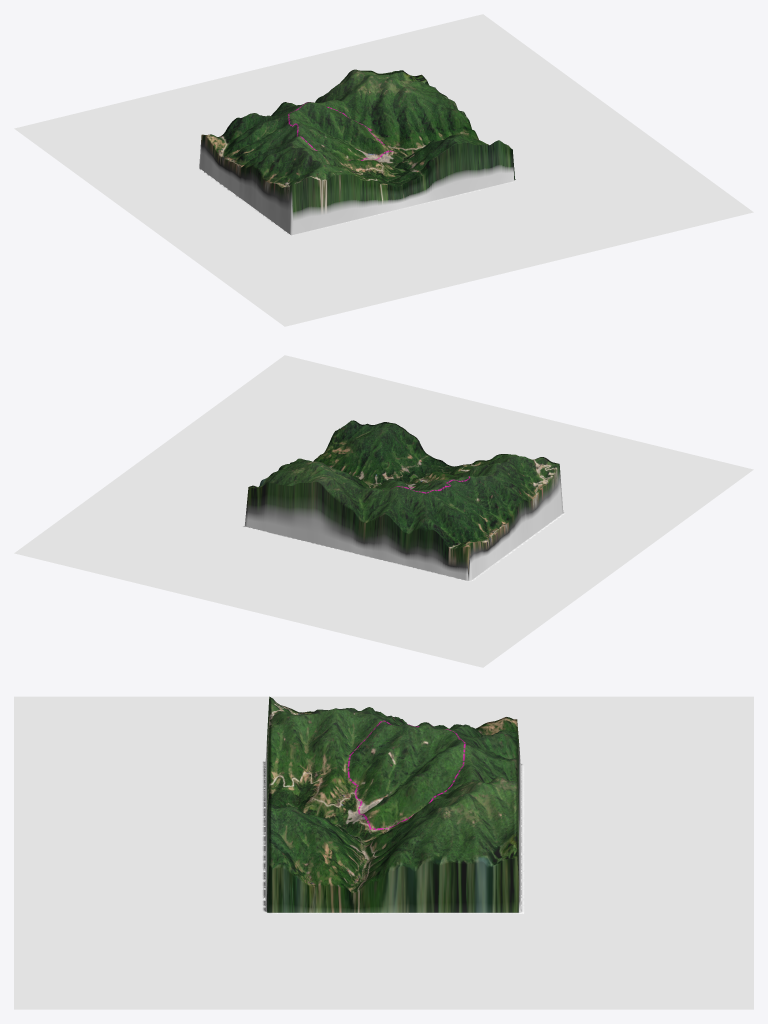
The model's file is low_dem.gltf.
3 renders of one model, top to bottom at view 1: azimuth 30°, elevation 25°; view 2: azimuth 150°, elevation 25°; view 3: azimuth 270°, elevation 25°, orthographic. The views are drawn at different scales.
Parts seen in each view (by area): view 1: 重分类栅格图, Flat Plane; view 2: 重分类栅格图, Flat Plane; view 3: 重分类栅格图, Flat Plane.
Part boxes in pixels (x1,y1,x2,y2): 重分类栅格图: (14,14,753,326); Flat Plane: (20,15,752,326); 重分类栅格图: (14,355,753,667); Flat Plane: (15,356,750,667); 重分类栅格图: (14,696,753,1009); Flat Plane: (14,696,753,1009).
Size of the model in its own units: 0.0697 by 0.00892 by 0.0697.
Materials: 2 (2 with a texture image).
